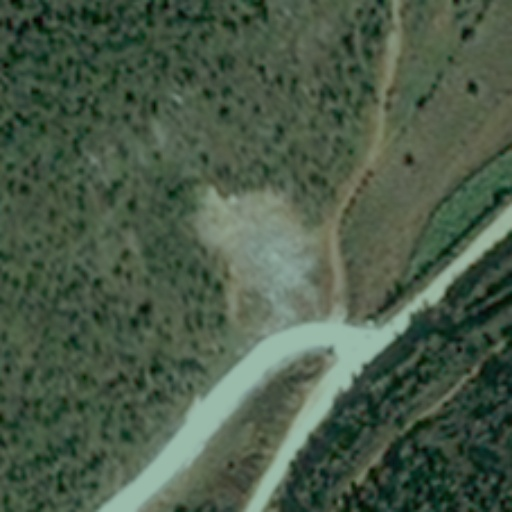landslide: (190, 184, 330, 323)
